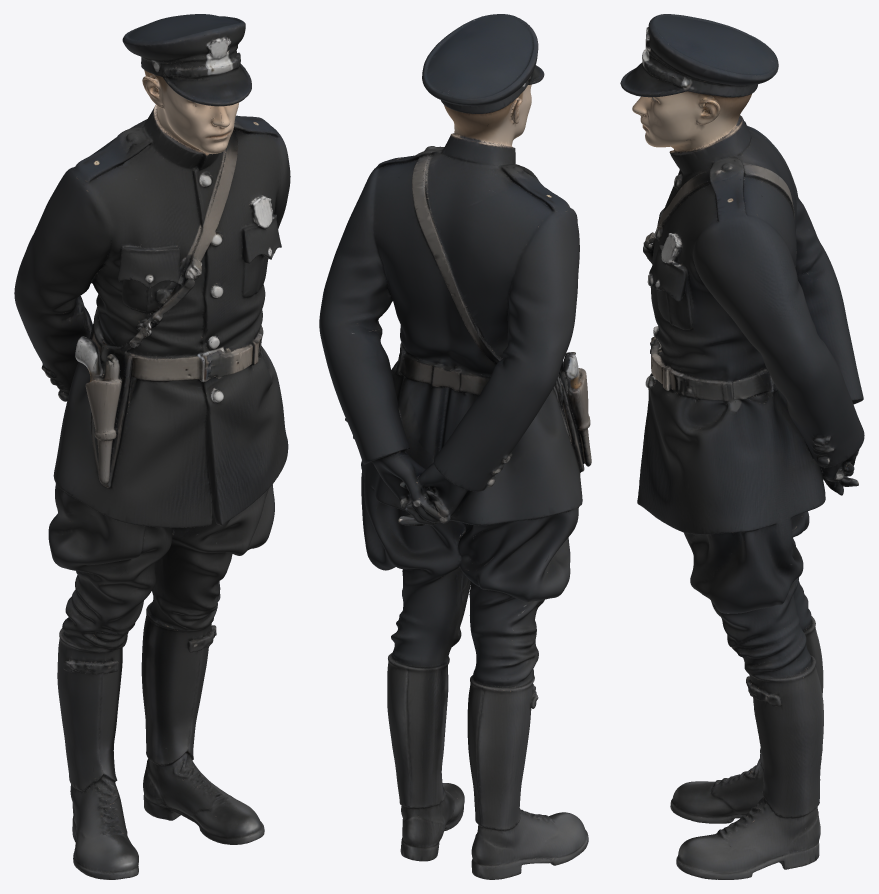
The model's file is Meshy_AI_Officer_in_Uniform_0129173114_texture.fbx.
3 views of the same model, side by side, from view 1: azimuth 30°, elevation 25°; view 2: azimuth 150°, elevation 25°; view 3: azimuth 270°, elevation 25° (orthographic). The views are drawn at different scales.
Parts seen in each view (by area): view 1: Mesh_0; view 2: Mesh_0; view 3: Mesh_0.
Part boxes in pixels (box(x1,y1,x2,y2)): Mesh_0: box(14, 14, 290, 879); Mesh_0: box(319, 14, 591, 879); Mesh_0: box(620, 14, 864, 879).
Bounding box in the file's own units: 61.92 × 200 × 53.29.
1 material, 1 textured.
